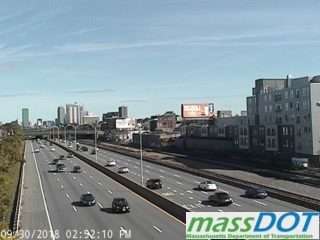car: (206, 191, 234, 207), (110, 197, 131, 213), (243, 187, 268, 199), (195, 180, 218, 192), (79, 193, 95, 206), (145, 178, 162, 189), (116, 165, 129, 174), (55, 164, 67, 172), (107, 159, 117, 167), (72, 166, 81, 173), (67, 152, 74, 159), (33, 147, 41, 153), (48, 146, 56, 152), (58, 155, 65, 161), (91, 150, 98, 156), (53, 158, 59, 164), (73, 144, 80, 149), (81, 146, 88, 151), (38, 144, 46, 148), (93, 147, 99, 152), (67, 145, 73, 149)
